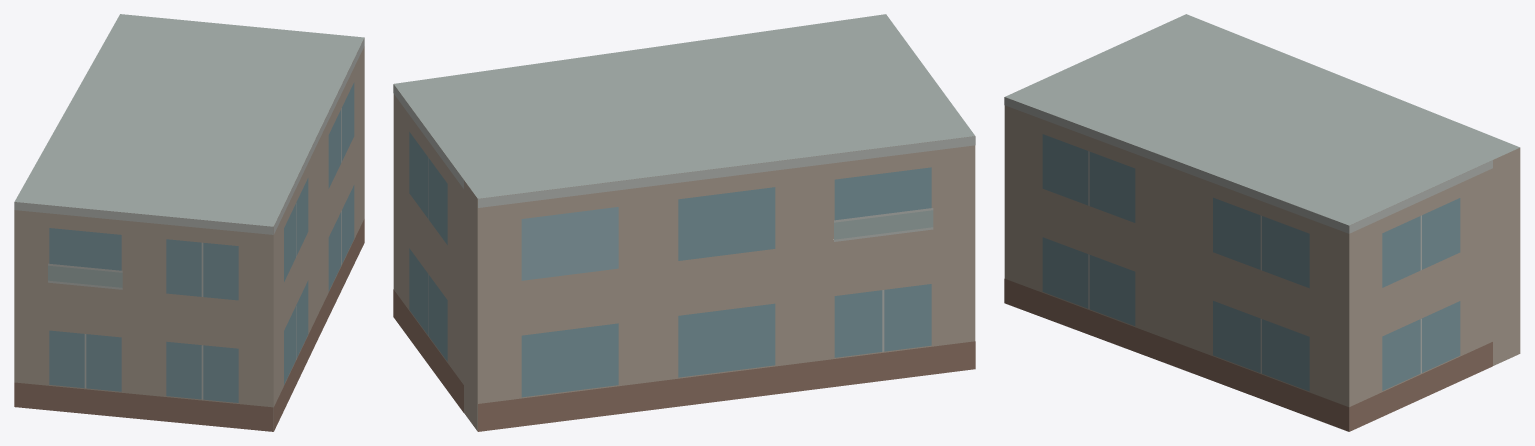
The model's file is survey-upis-32796084.glb.
The picture shows the model from 3 angles, left to right: view 1: azimuth 30°, elevation 25°; view 2: azimuth 150°, elevation 25°; view 3: azimuth 270°, elevation 25°; orthographic projection. The views are drawn at different scales.
Visible parts, largest first — view 1: survey-upis-32796084.tmp; view 2: survey-upis-32796084.tmp; view 3: survey-upis-32796084.tmp.
Boxes of the visible parts, box(x1,y1,x2,y2) form: survey-upis-32796084.tmp: box(14, 14, 364, 431); survey-upis-32796084.tmp: box(393, 14, 975, 431); survey-upis-32796084.tmp: box(1004, 14, 1520, 431).
Bounding box in the file's own units: 13.43 × 6.1 × 13.83.
